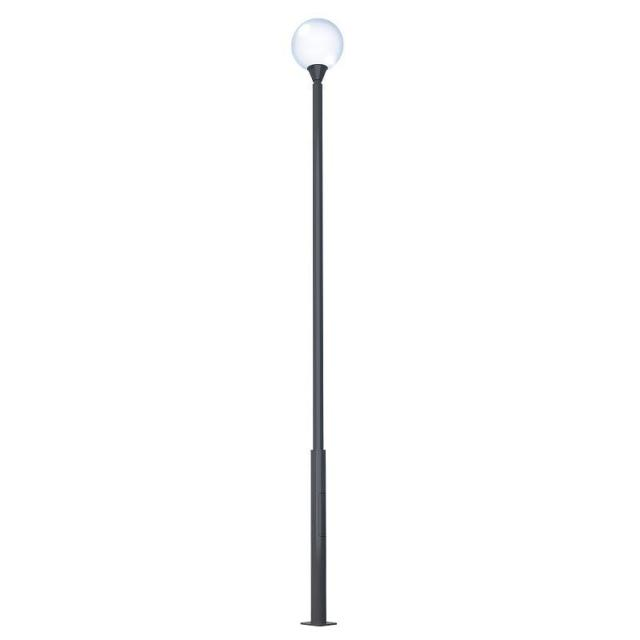pole: (296, 149, 335, 629)
